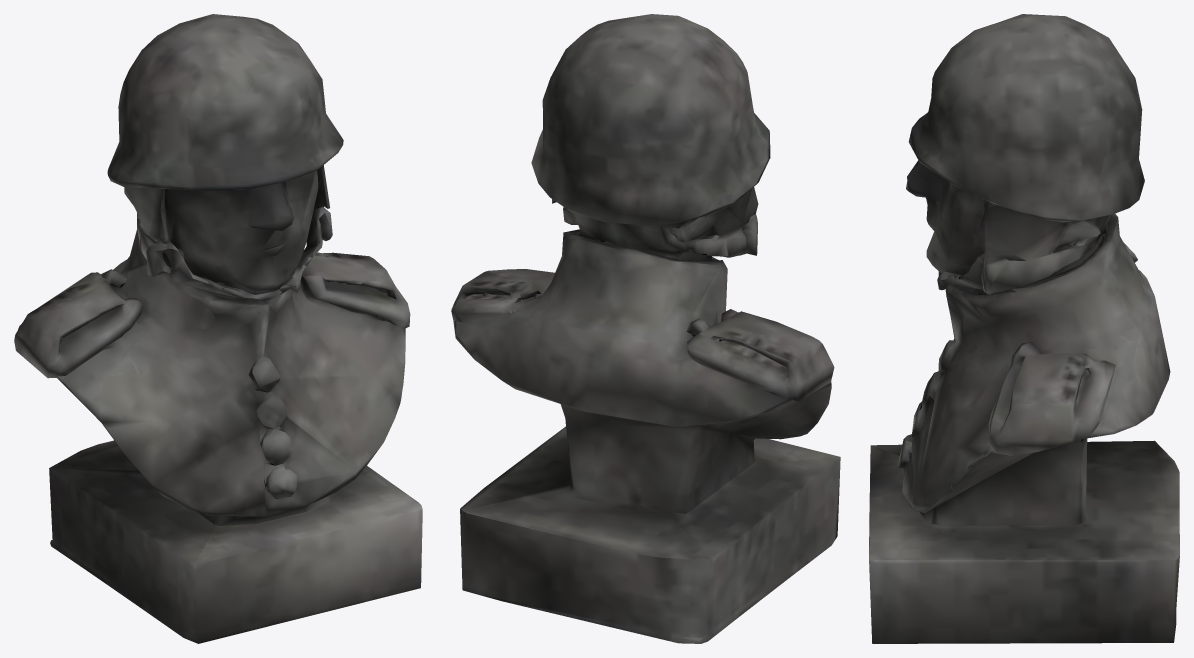
The model's file is simple-granite-bust-v001.glb.
3 renders of one model, left to right at view 1: azimuth 30°, elevation 25°; view 2: azimuth 150°, elevation 25°; view 3: azimuth 270°, elevation 25°, orthographic. The views are drawn at different scales.
Parts seen in each view (by area): view 1: simple-granite-bust; view 2: simple-granite-bust; view 3: simple-granite-bust.
Part boxes in pixels (bbox=[...]): simple-granite-bust: bbox=[14, 14, 422, 643]; simple-granite-bust: bbox=[451, 14, 840, 643]; simple-granite-bust: bbox=[869, 14, 1179, 643].
Size of the model in its own units: 0.491 by 0.7095 by 0.3565.
Materials: 1 (1 with a texture image).
